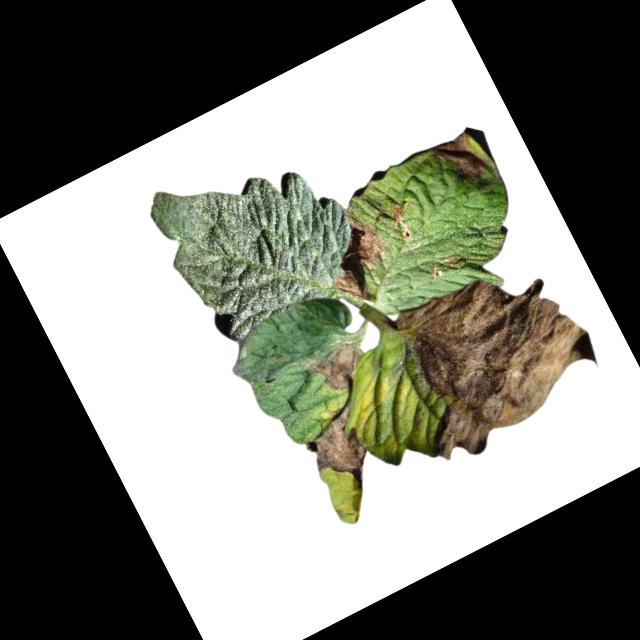Late_blight: (368, 240, 613, 473), (295, 400, 387, 500), (313, 211, 401, 306), (304, 332, 381, 402), (431, 125, 499, 194), (425, 245, 471, 282), (384, 198, 419, 243)
healthy: (139, 119, 375, 353)
